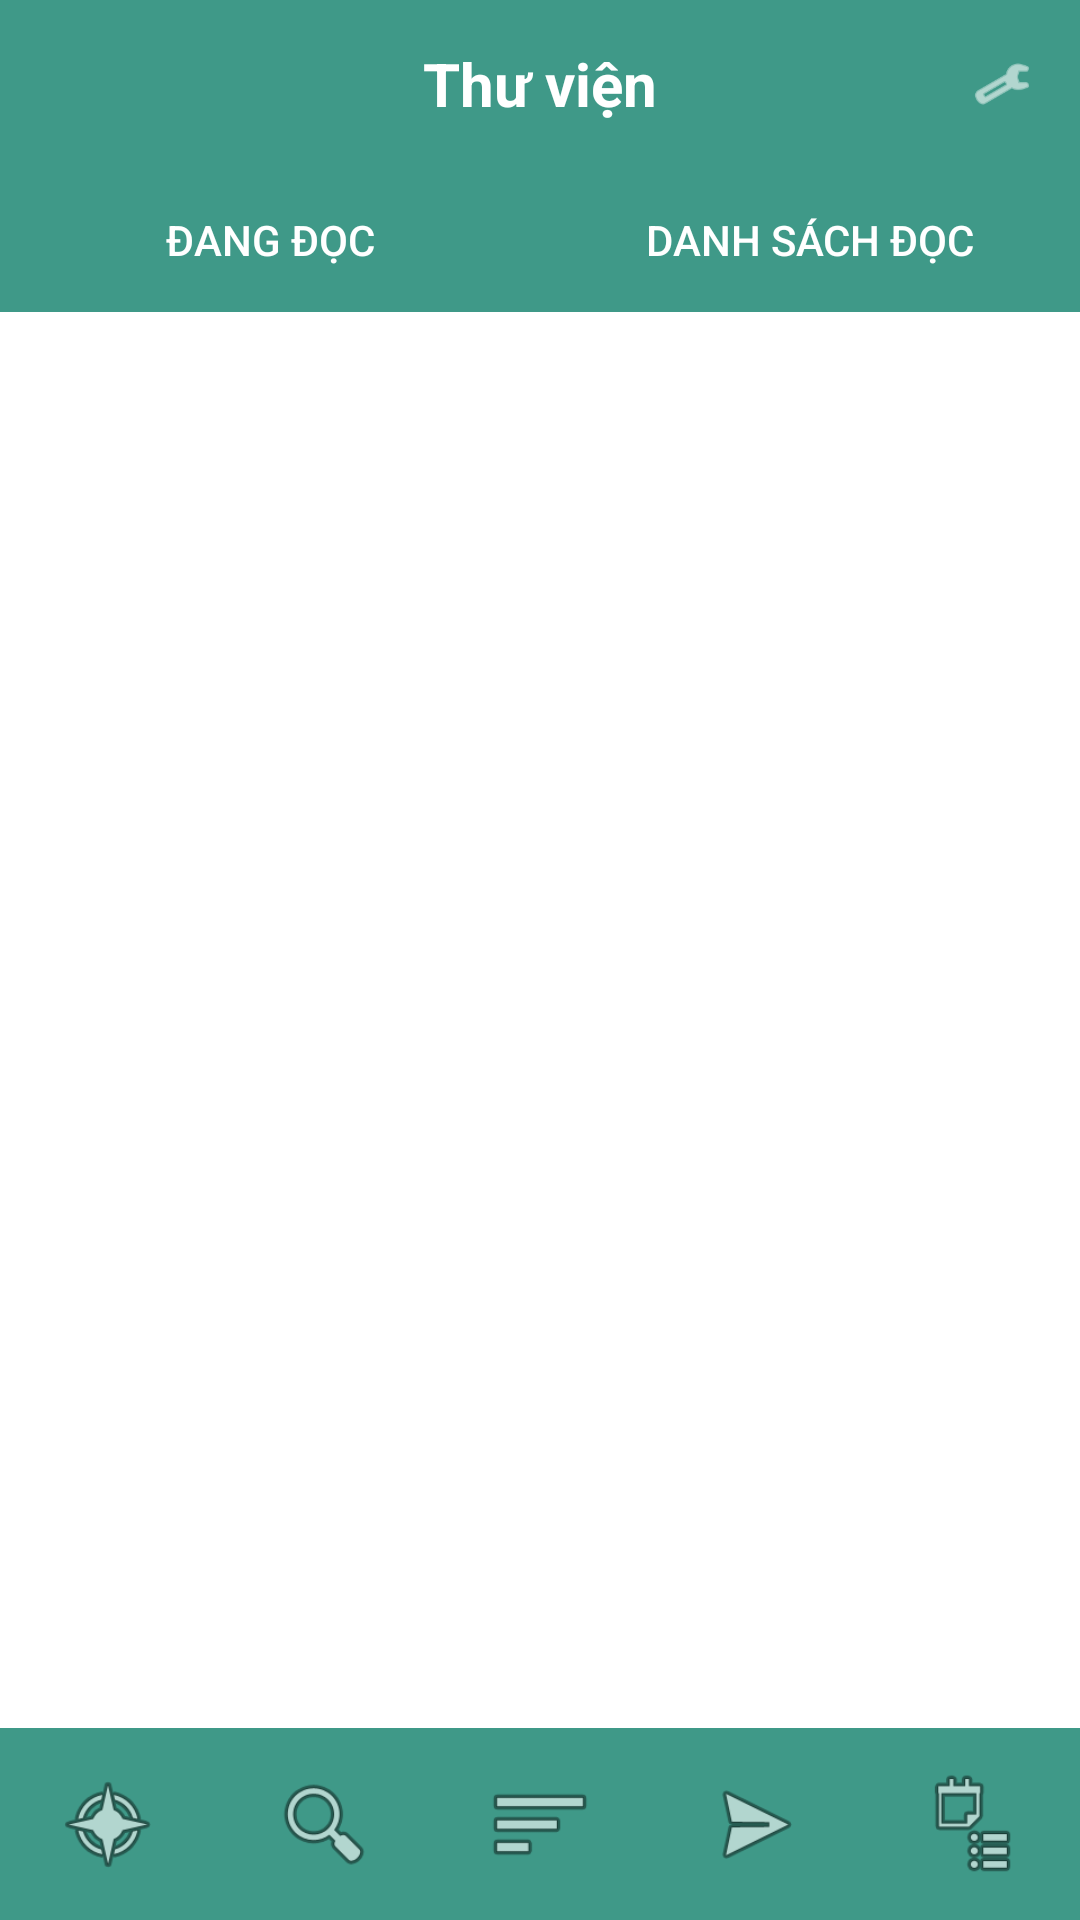

Screen size 1080w x 1920h. Icon name, then its center in pixels as point (x, y):
agenda: point (972, 1823)
compass: point (107, 1824)
manage: point (1002, 84)
search: point (324, 1824)
send: point (757, 1824)
sort by size: point (540, 1824)
